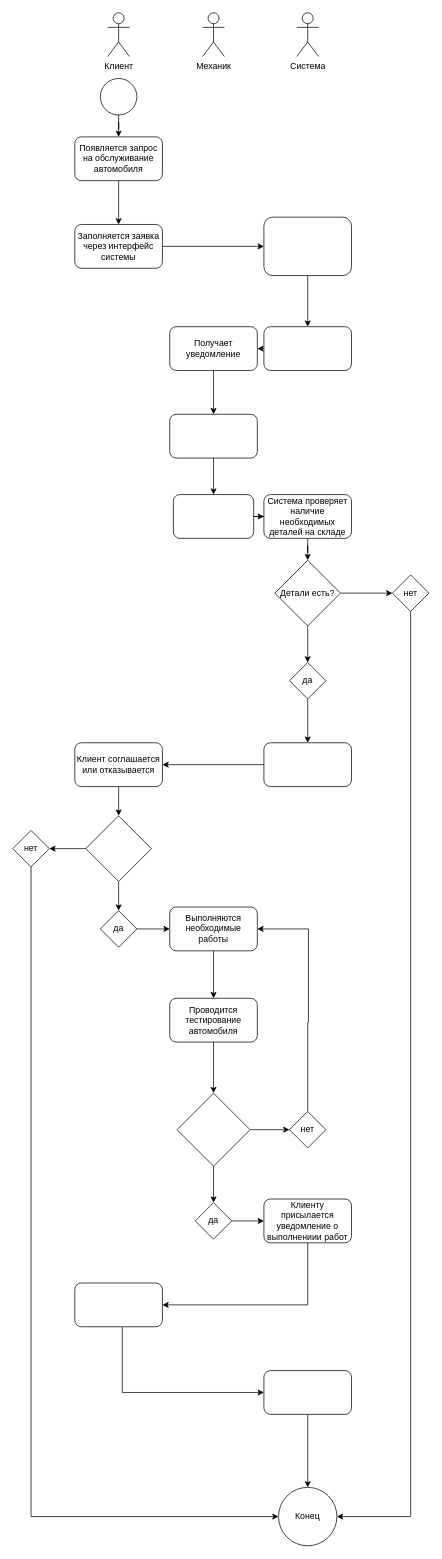
Some shapes in this 442 by 1559 pixel diagram are drawn without their labels. Here are the shapes that lost their labels. From the top down, the centre of each, then its label:
(x=118, y=96): Начало
(x=307, y=246): Заявка принимается и информации о клиенте и автомобиле сохраняется
(x=307, y=348): Оправляется уведомление о новой заявке
(x=213, y=436): Проводится диагностика автомобиля
(x=213, y=516): Формируется список работ и их стоимость
(x=307, y=764): Клиенту высылается предложение
(x=118, y=848): Клиент согласен?
(x=213, y=1129): Всё в порядке?
(x=118, y=1304): Клиент забирает автомобиль
(x=307, y=1392): Система сохраняет историю заказа
